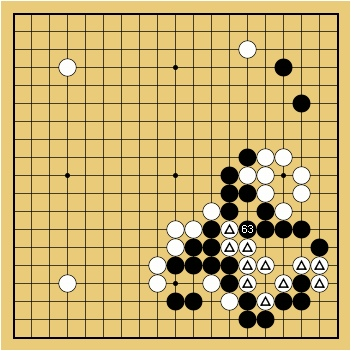black: (183, 291, 203, 311), (183, 255, 203, 275), (183, 237, 203, 257), (201, 237, 221, 257), (201, 255, 221, 275), (192, 226, 212, 246), (309, 237, 329, 257), (291, 93, 311, 113), (291, 291, 311, 311), (273, 219, 293, 239), (291, 219, 311, 239), (273, 291, 293, 311), (165, 291, 185, 311), (165, 255, 185, 275), (273, 57, 293, 77), (237, 147, 257, 167), (255, 201, 275, 221), (244, 209, 264, 229), (237, 183, 257, 203), (255, 219, 275, 239), (237, 291, 257, 311), (237, 309, 257, 329), (255, 309, 275, 329), (219, 183, 239, 203), (219, 165, 239, 185), (219, 201, 239, 221), (219, 255, 239, 275), (219, 273, 239, 293), (291, 273, 311, 293)
white: (183, 219, 203, 239), (57, 273, 77, 293), (201, 273, 221, 293), (201, 201, 221, 221), (255, 147, 275, 167), (309, 273, 329, 293), (311, 256, 331, 276), (292, 258, 312, 278), (273, 201, 293, 221), (291, 183, 311, 203), (291, 165, 311, 185), (273, 273, 293, 293), (165, 237, 185, 257), (165, 219, 185, 239), (147, 273, 167, 293), (147, 255, 167, 275), (273, 147, 293, 167), (237, 165, 257, 185), (237, 39, 257, 59), (255, 291, 275, 311), (255, 255, 275, 275), (237, 273, 257, 293), (255, 183, 275, 203), (240, 239, 260, 259), (255, 165, 275, 185), (239, 256, 259, 276), (220, 219, 240, 239), (220, 240, 240, 260), (219, 291, 239, 311), (57, 57, 77, 77)
